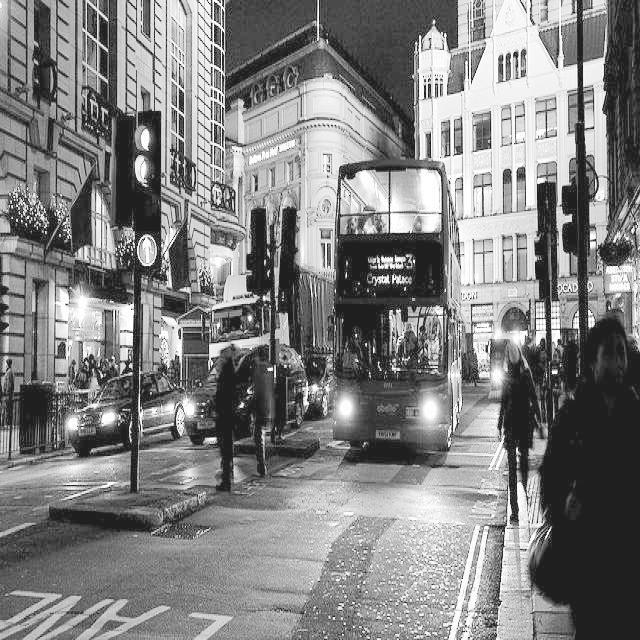Bus: (330, 160, 462, 456)
Car: (56, 367, 195, 454)
Light: (133, 108, 162, 237)
Person: (539, 316, 640, 640), (498, 334, 538, 532), (212, 349, 238, 492), (250, 344, 276, 477)
